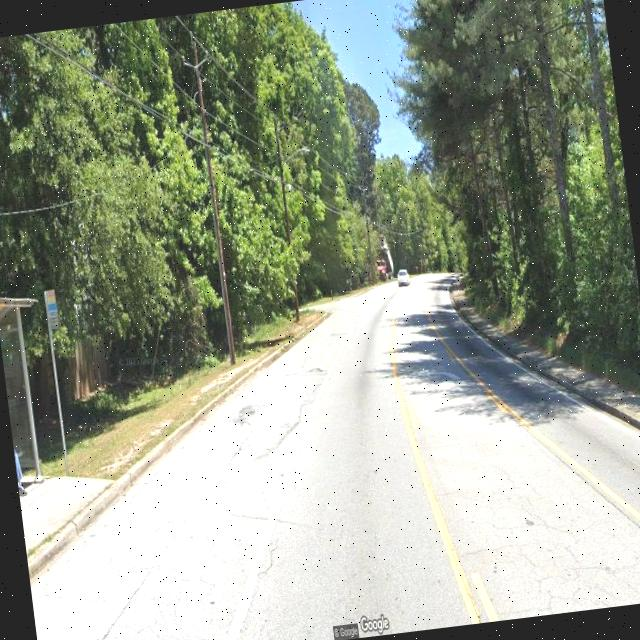shelter: (0, 294, 59, 512)
